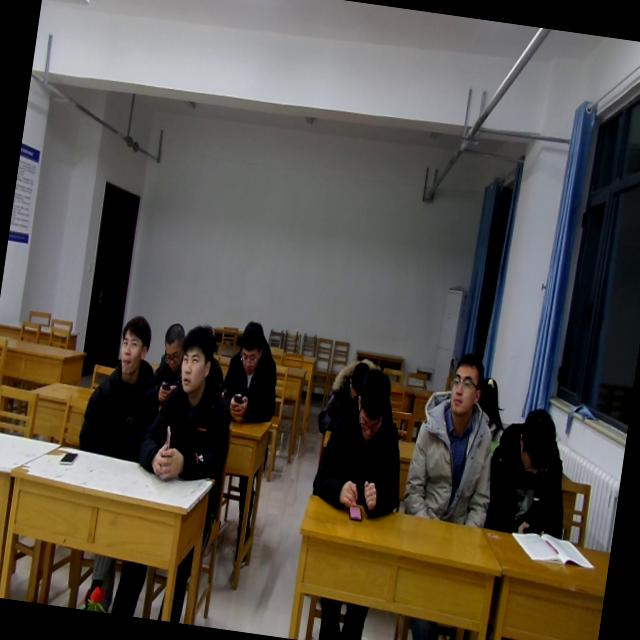bow: (217, 317, 289, 428), (315, 353, 384, 442), (468, 371, 516, 459), (148, 320, 190, 407)
down: (512, 403, 564, 484), (350, 362, 396, 446), (234, 316, 268, 375), (158, 316, 190, 372), (344, 355, 374, 400)
lookup: (174, 323, 222, 403), (442, 346, 488, 421), (112, 309, 156, 381)
sit: (399, 346, 514, 532), (133, 316, 247, 488), (307, 360, 417, 522), (75, 308, 172, 462), (478, 402, 580, 540)
